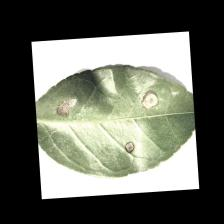canker: (48, 82, 166, 160)
